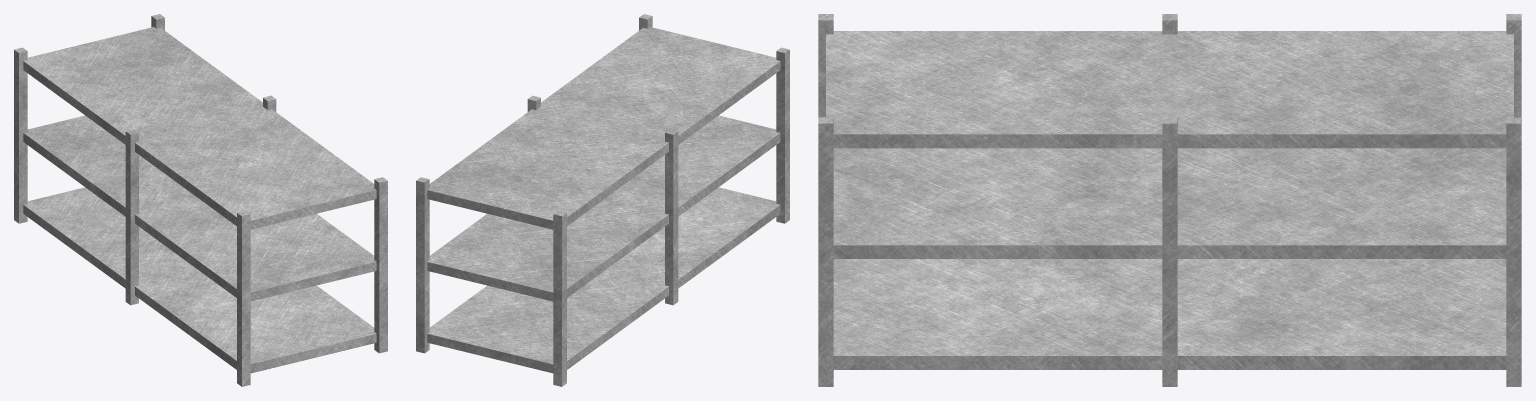
Rendered from shelf2.fbx.
3 views of the same model, side by side, from view 1: azimuth 30°, elevation 25°; view 2: azimuth 150°, elevation 25°; view 3: azimuth 270°, elevation 25° (orthographic). The views are drawn at different scales.
Visible parts, largest first — view 1: Shelf2; view 2: Shelf2; view 3: Shelf2.
Boxes of the visible parts, <box> form: Shelf2: <box>14,14,387,386</box>; Shelf2: <box>416,14,789,386</box>; Shelf2: <box>818,14,1521,386</box>.
Bounding box in the file's own units: 170 × 190 × 460.
1 material, 1 textured.
